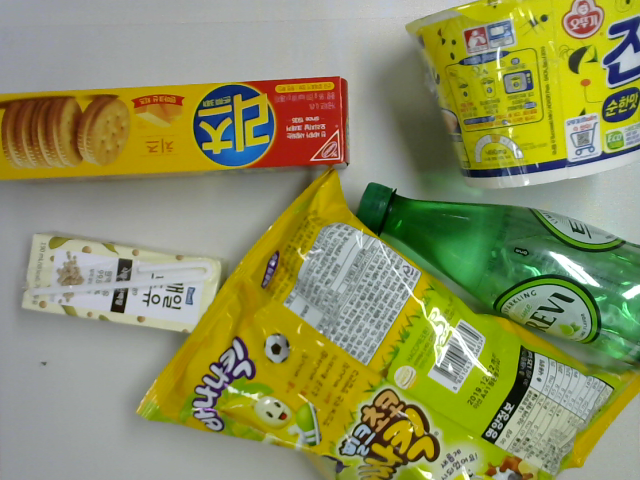99.89_Soymilk: (17, 231, 229, 343)
Banana_Kick: (134, 167, 640, 478)
Jinlamyeon_Mild_Taste_Large_Cup: (400, 1, 640, 189)
Ritz_Sand_Cracker: (1, 76, 357, 182)
Treviraim_500ml: (353, 178, 640, 379)
